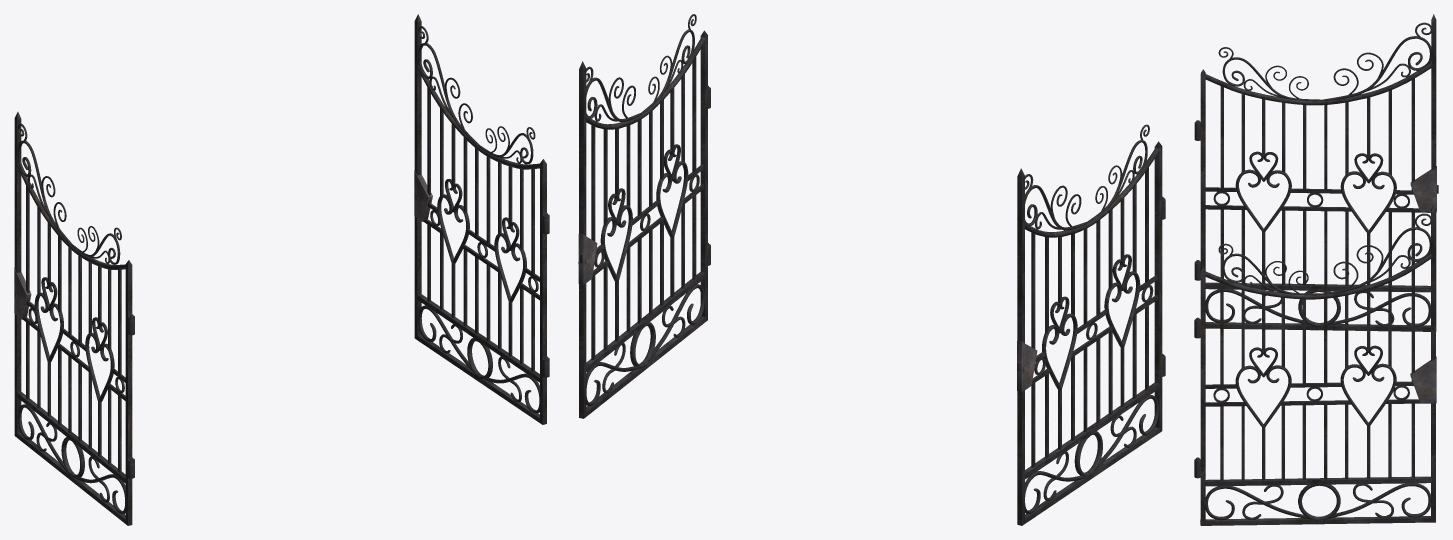
Rendered from gate.obj.
3 views of the same model, side by side, from view 1: azimuth 30°, elevation 25°; view 2: azimuth 150°, elevation 25°; view 3: azimuth 270°, elevation 25° (orthographic). The views are drawn at different scales.
Visible parts, largest first — view 1: leftGate_Ancient_Gate_Model_gate_left_gate_main, rightGate_Ancient_Gate_Model_gate_main_gate_right; view 2: rightGate_Ancient_Gate_Model_gate_main_gate_right, leftGate_Ancient_Gate_Model_gate_left_gate_main; view 3: leftGate_Ancient_Gate_Model_gate_left_gate_main, rightGate_Ancient_Gate_Model_gate_main_gate_right.
Part boxes in pixels (left/top/right/bottom): leftGate_Ancient_Gate_Model_gate_left_gate_main: left=414, top=14, right=549, bottom=424; rightGate_Ancient_Gate_Model_gate_main_gate_right: left=14, top=112, right=134, bottom=525; rightGate_Ancient_Gate_Model_gate_main_gate_right: left=1017, top=124, right=1165, bottom=525; leftGate_Ancient_Gate_Model_gate_left_gate_main: left=578, top=14, right=710, bottom=418; leftGate_Ancient_Gate_Model_gate_left_gate_main: left=1194, top=205, right=1436, bottom=525; rightGate_Ancient_Gate_Model_gate_main_gate_right: left=1194, top=14, right=1438, bottom=331.
Size of the model in its own units: 5.56 by 4.1 by 2.86.
Materials: 1 (1 with a texture image).
